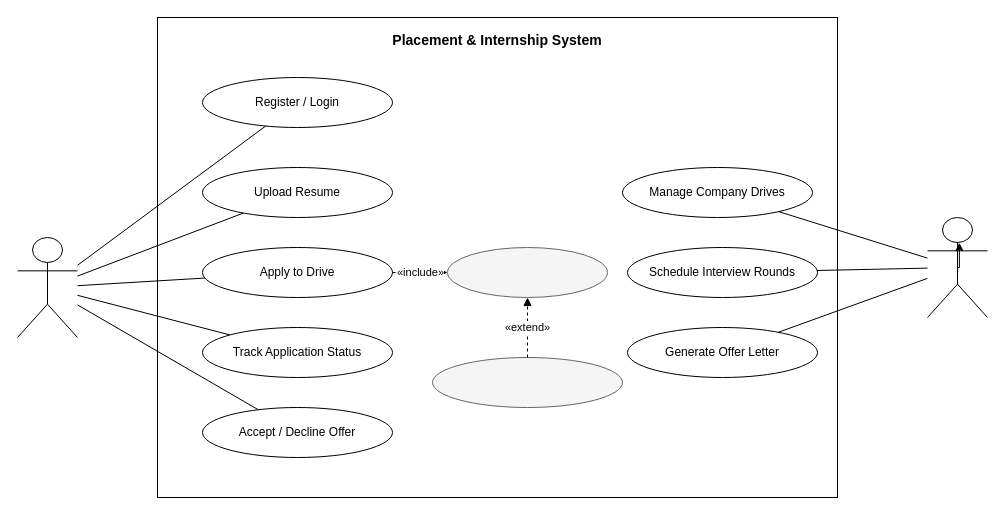
Some shapes in this 1005 by 515 pixel diagram are drawn without their labels. The shapes that lost their labels are listed below. From the top down, each one's centre as x and y in pixels, then its label:
point (47, 287): Student Applicant
point (527, 272): Check Eligibility
point (957, 267): Placement Officer
point (527, 382): Flag Discrepancy
